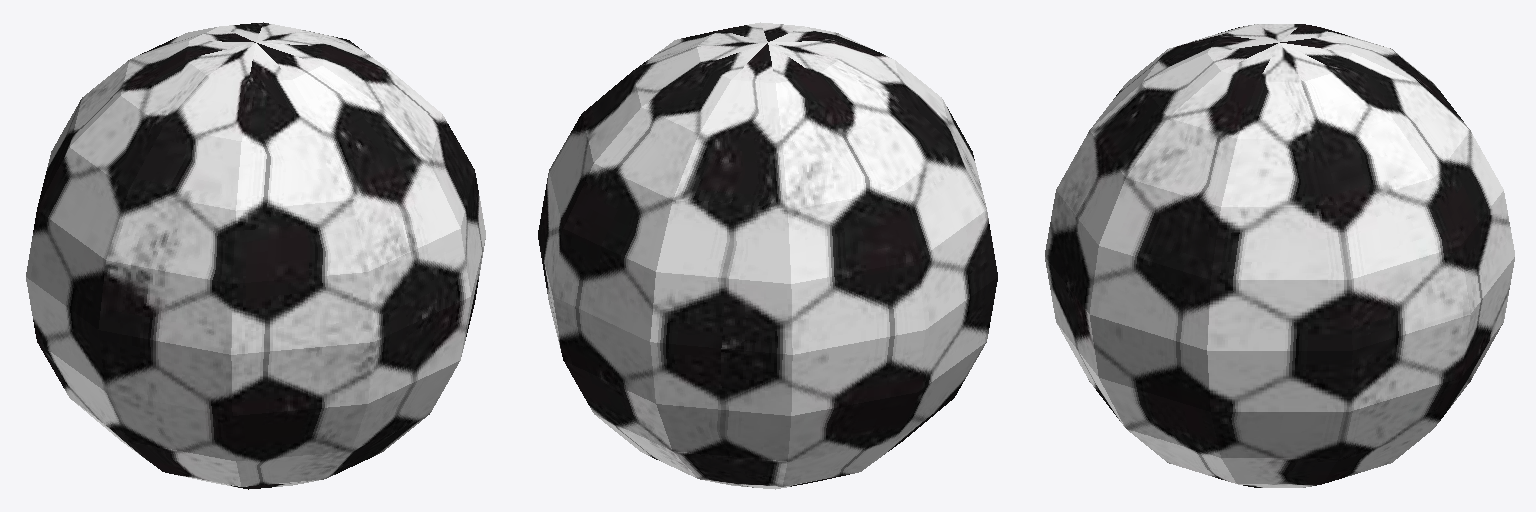
3 views of the same model, side by side, from view 1: azimuth 30°, elevation 25°; view 2: azimuth 150°, elevation 25°; view 3: azimuth 270°, elevation 25° (orthographic).
Visible parts, largest first — view 1: Sphere_Sphere.001; view 2: Sphere_Sphere.001; view 3: Sphere_Sphere.001.
Boxes of the visible parts, x1,y1,x2,y2 form: Sphere_Sphere.001: [26, 22, 485, 489]; Sphere_Sphere.001: [538, 22, 997, 489]; Sphere_Sphere.001: [1045, 24, 1514, 487].
Bounding box in the file's own units: 0.9511 × 1 × 1.
1 materials, 1 textured.